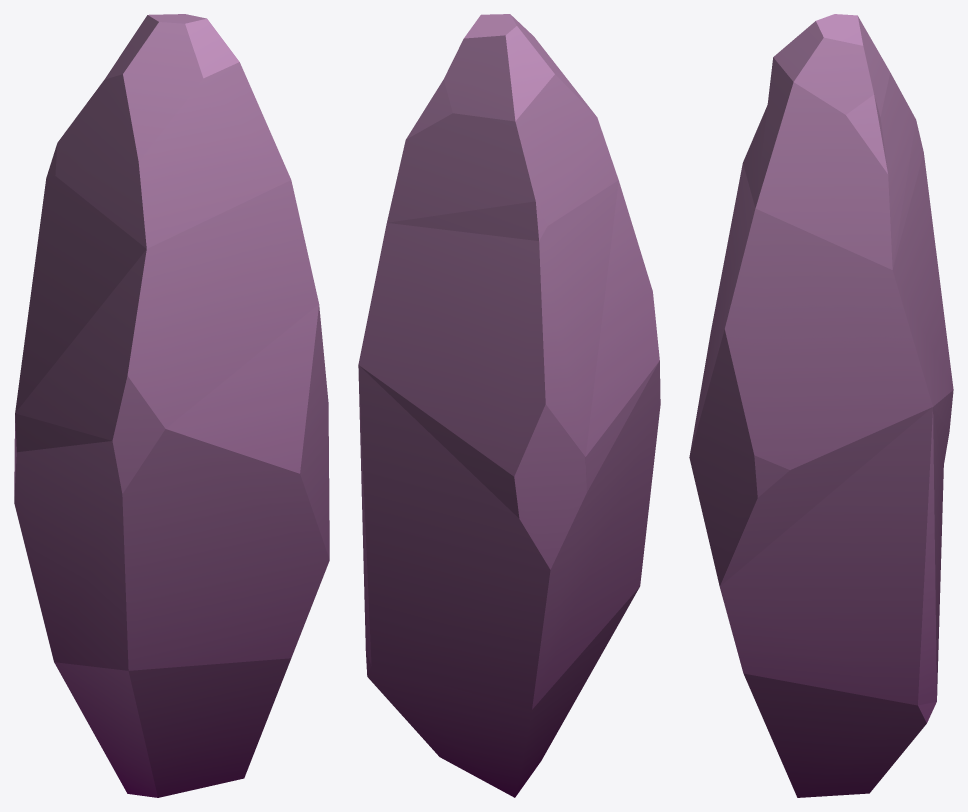
Rendered from Dark_Crystal.glb.
3 renders of one model, left to right at view 1: azimuth 30°, elevation 25°; view 2: azimuth 150°, elevation 25°; view 3: azimuth 270°, elevation 25°, orthographic. The views are drawn at different scales.
Parts seen in each view (by area): view 1: Cube; view 2: Cube; view 3: Cube.
Part boxes in pixels (bbox=[...]): Cube: bbox=[14, 14, 329, 797]; Cube: bbox=[358, 14, 660, 797]; Cube: bbox=[689, 14, 953, 797].
Bounding box in the file's own units: 0.642 × 2.03 × 0.6274.
1 material, 1 textured.
